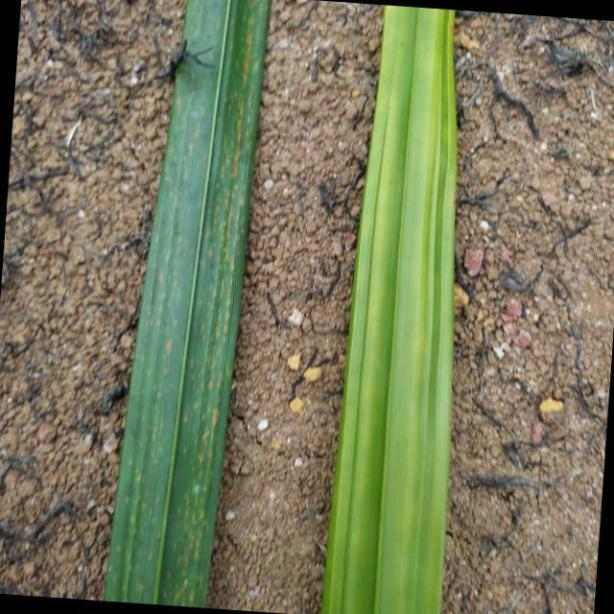nitrogen: (99, 0, 267, 614), (320, 0, 456, 614)
